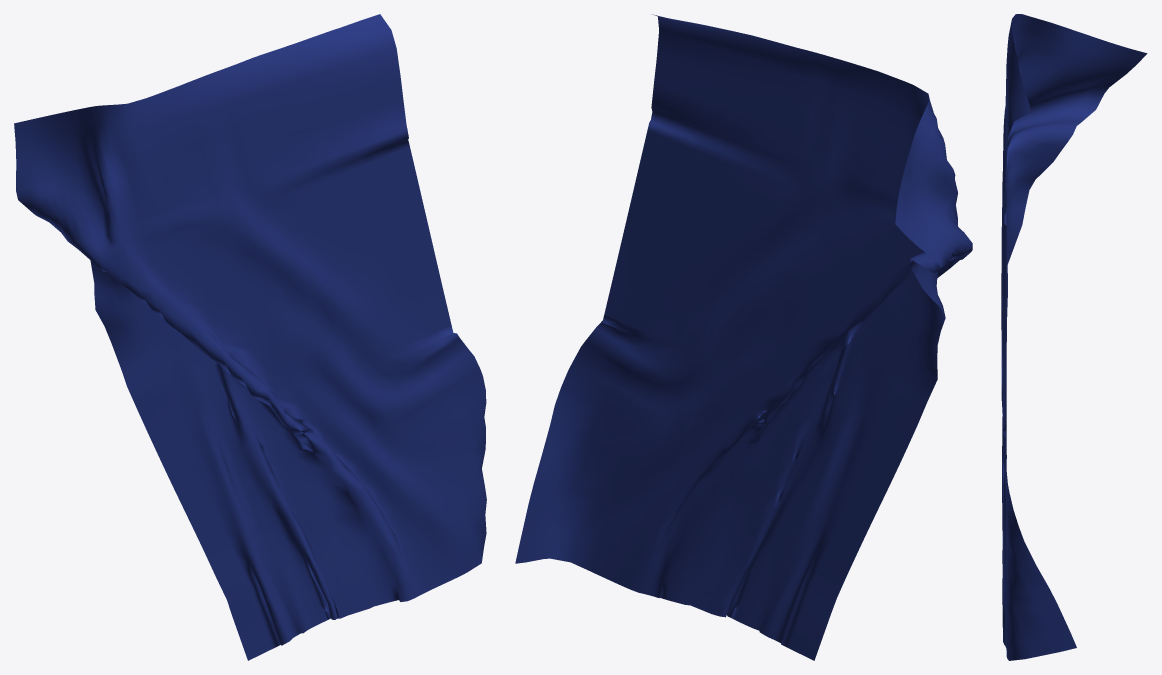
Rendered from BedsheetUnmade_16_BedsheetUnmade_1_2.obj.
3 views of the same model, side by side, from view 1: azimuth 30°, elevation 25°; view 2: azimuth 150°, elevation 25°; view 3: azimuth 270°, elevation 25° (orthographic). The views are drawn at different scales.
Parts seen in each view (by area): view 1: BedsheetUnmade_1; view 2: BedsheetUnmade_1; view 3: BedsheetUnmade_1.
Part boxes in pixels (x1=…): BedsheetUnmade_1: x1=14, y1=14, x2=486, y2=660; BedsheetUnmade_1: x1=515, y1=14, x2=972, y2=660; BedsheetUnmade_1: x1=1001, y1=14, x2=1147, y2=660.
Bounding box in the file's own units: 1.66 × 2.23 × 0.5426.
